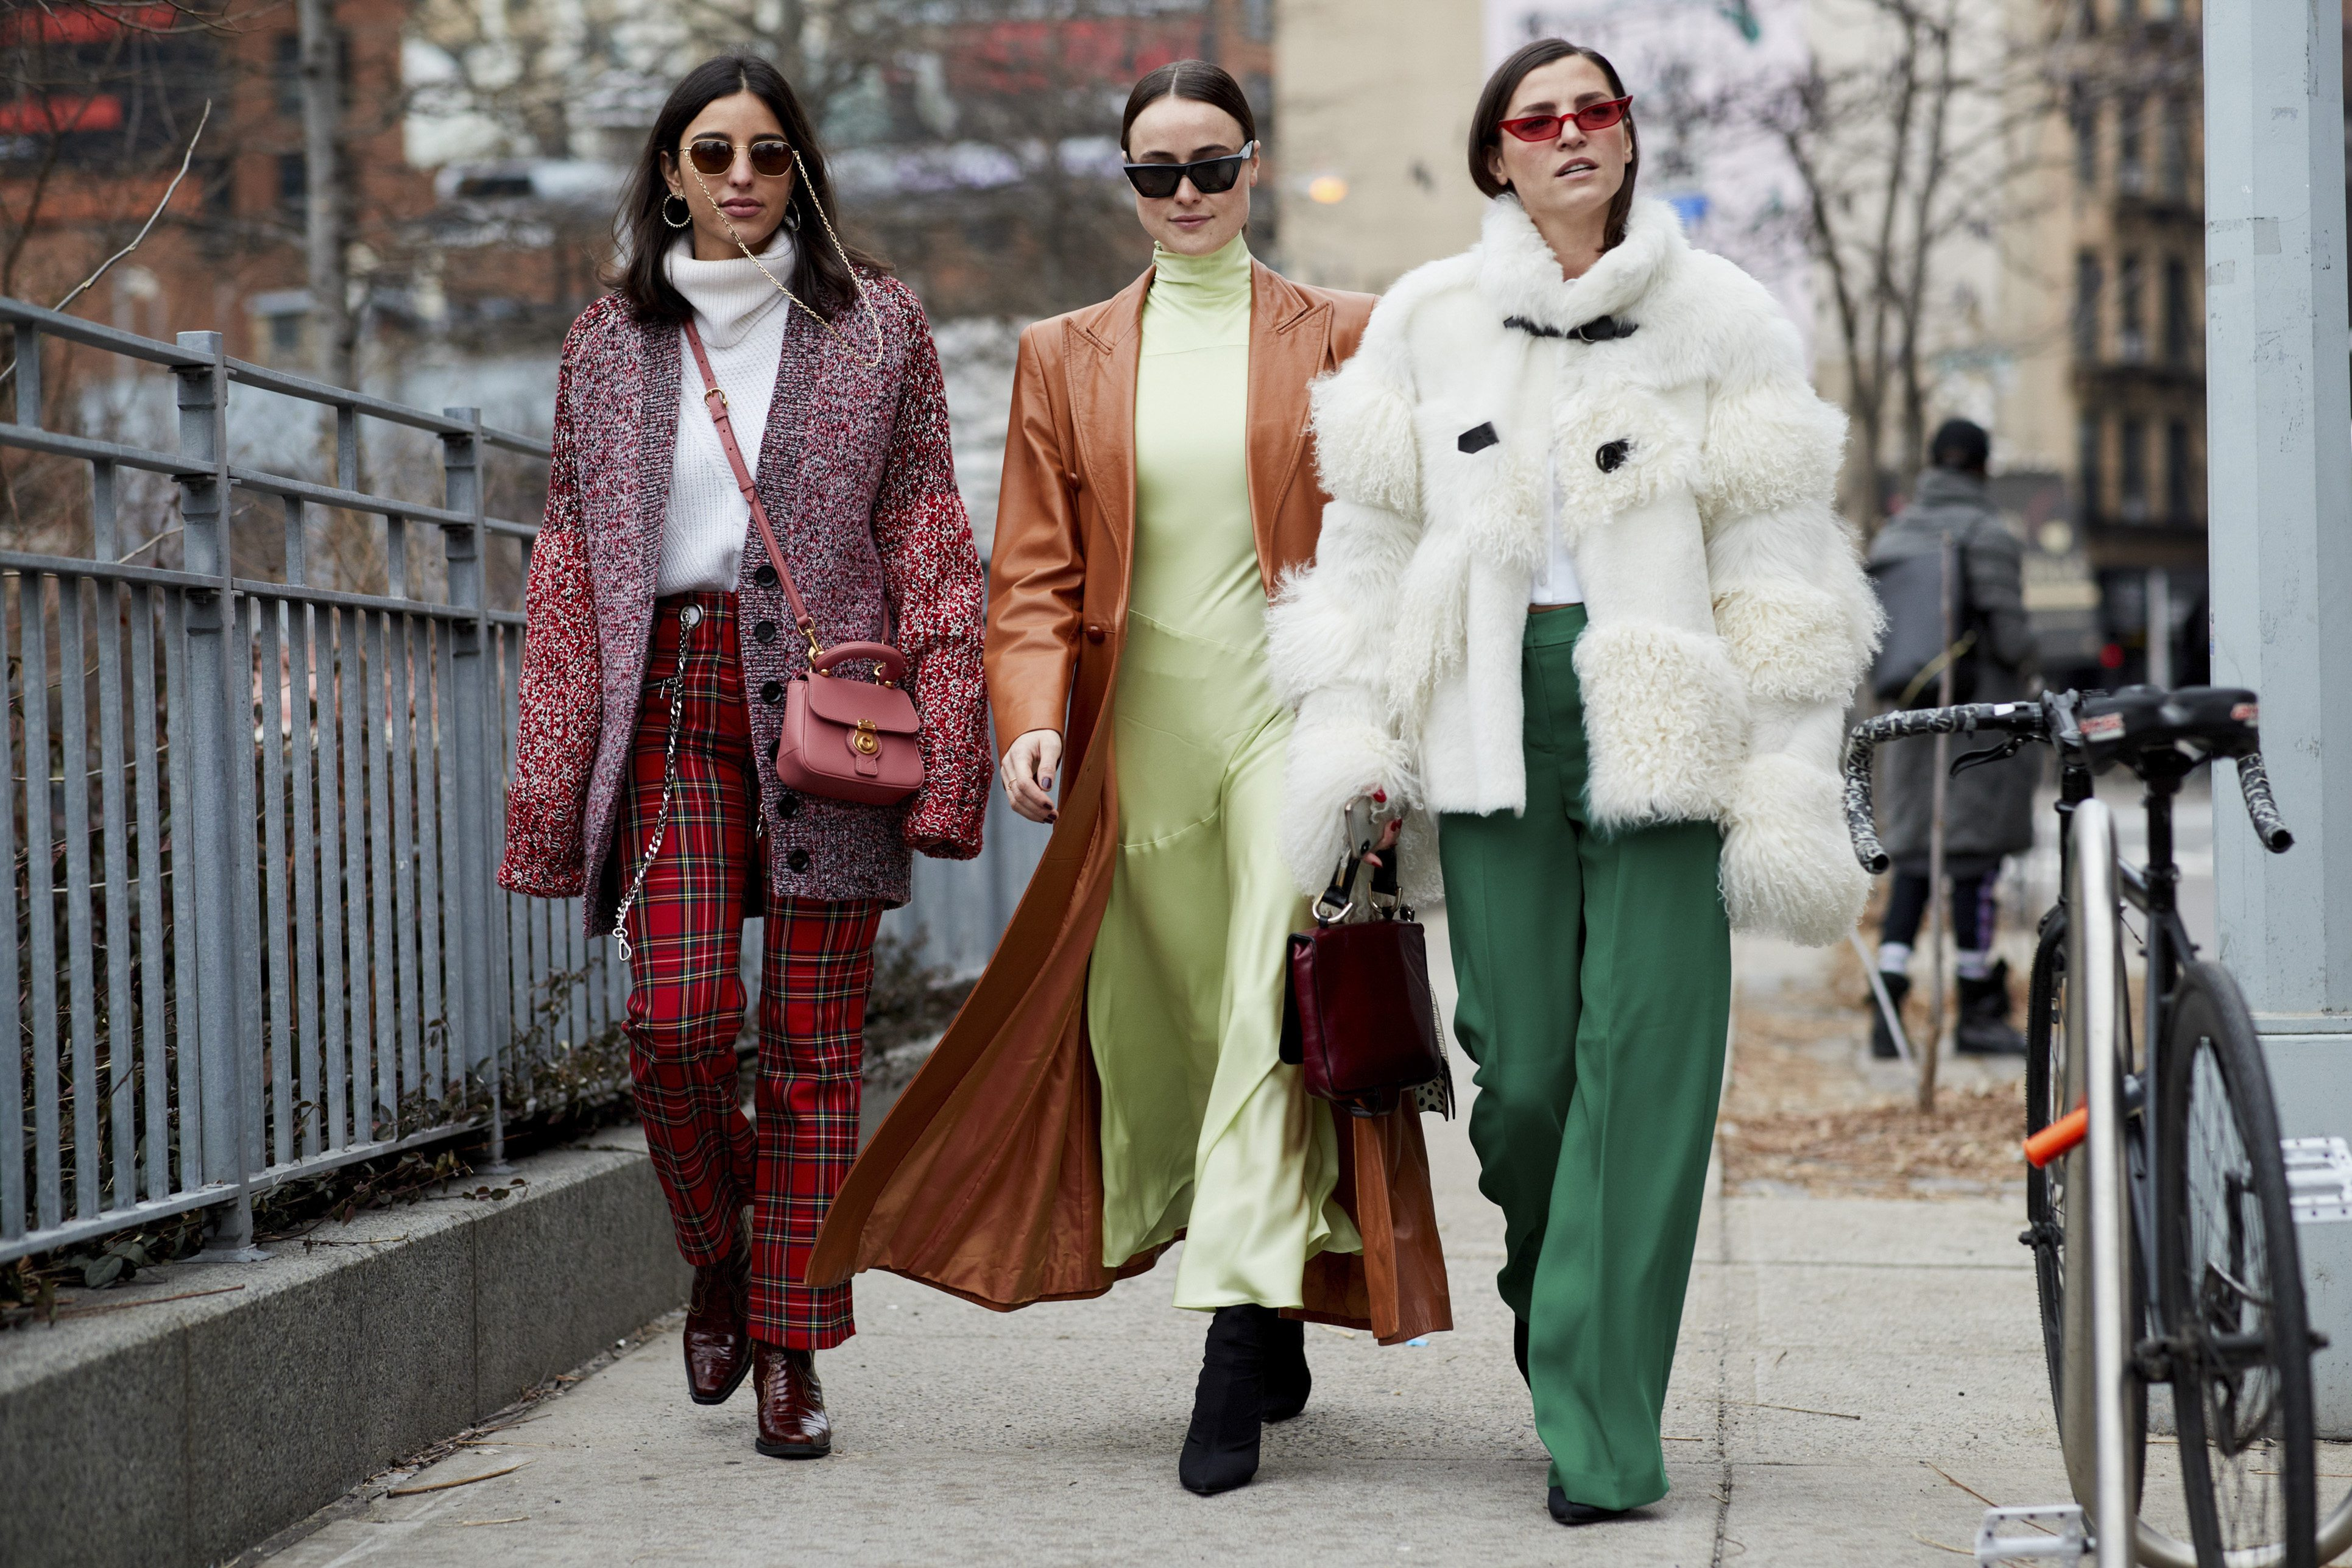Person: (1352, 18, 1890, 1568), (439, 70, 978, 1489), (987, 57, 1444, 1554)
